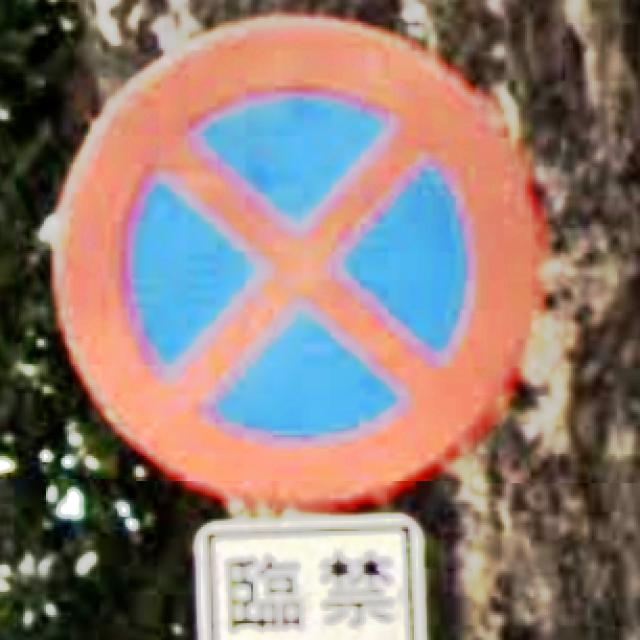nopark: (50, 17, 542, 515)
